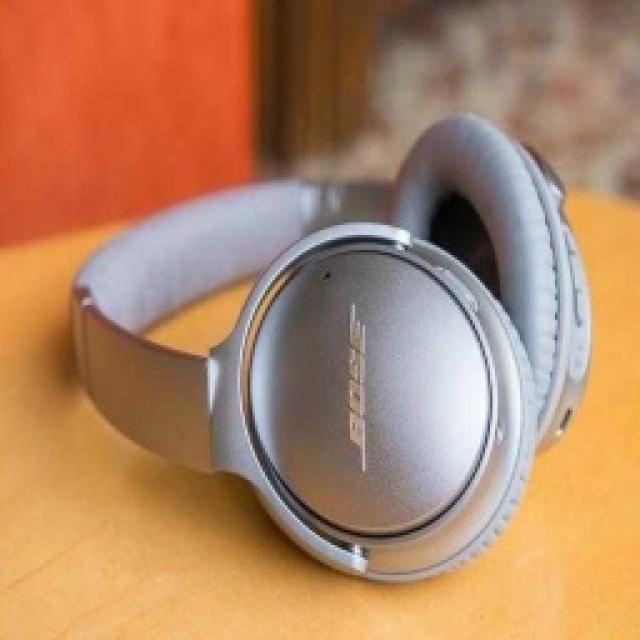headphones: (68, 110, 592, 585)
